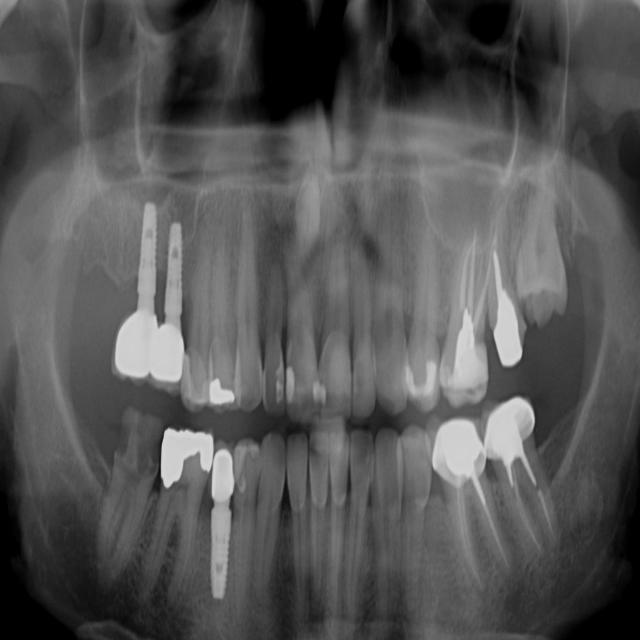dentin-curugu: (116, 410, 160, 486), (297, 427, 331, 467)
dolgu: (443, 329, 490, 403), (398, 345, 440, 402), (270, 360, 307, 409), (203, 376, 244, 413), (307, 373, 333, 410)
implant: (117, 190, 163, 392), (162, 206, 192, 401), (207, 440, 234, 608)
kanal-tedavisi: (443, 473, 508, 583), (496, 445, 561, 548), (434, 245, 490, 347), (473, 227, 524, 321), (486, 296, 533, 378)
kaplama: (152, 418, 218, 488), (432, 413, 488, 492), (478, 392, 542, 461)
